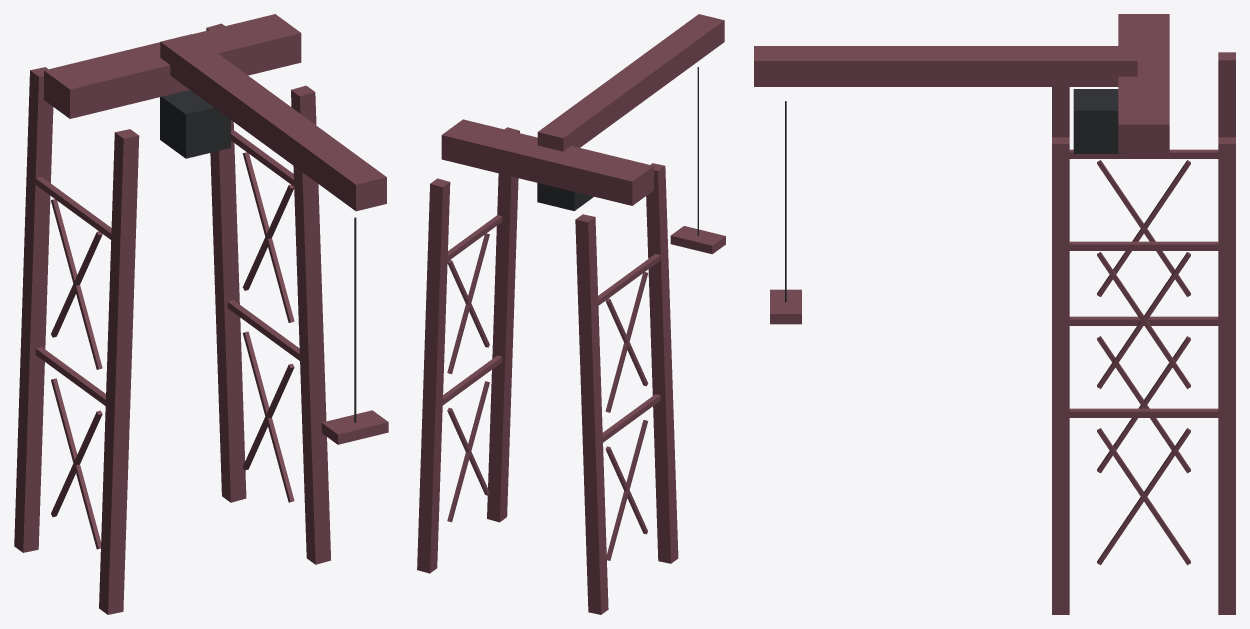
The model's file is cargo_crane.glb.
3 renders of one model, left to right at view 1: azimuth 30°, elevation 25°; view 2: azimuth 150°, elevation 25°; view 3: azimuth 270°, elevation 25°, orthographic. The views are drawn at different scales.
Visible parts, largest first — view 1: CargoCrane, Boom, HookCable; view 2: CargoCrane, Boom; view 3: CargoCrane, Boom.
Part boxes in pixels (bbox=[...]): CargoCrane: bbox=[14, 23, 388, 614]; Boom: bbox=[44, 14, 301, 118]; HookCable: bbox=[354, 217, 356, 422]; CargoCrane: bbox=[417, 14, 725, 614]; Boom: bbox=[441, 119, 653, 205]; CargoCrane: bbox=[754, 46, 1235, 614]; Boom: bbox=[1118, 14, 1169, 153].
Size of the model in its own units: 8.2 by 17.55 by 15.08.
